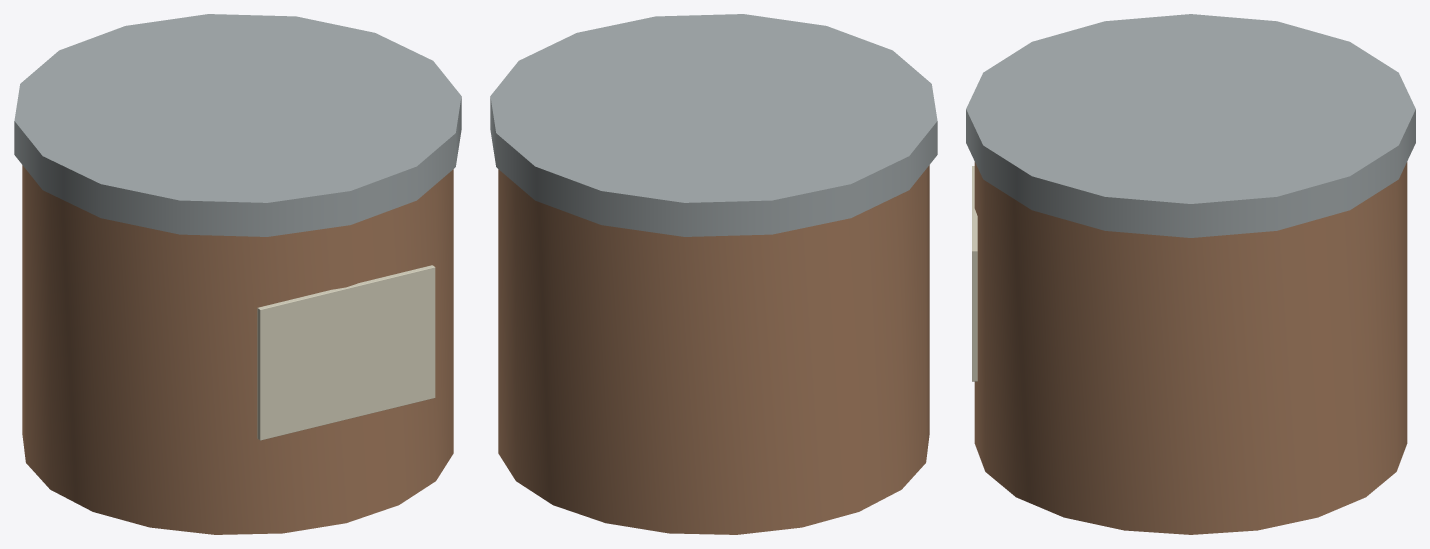
The model's file is survival-food-and-preservation-coffee-tin-d5a4f463__21769.glb.
The picture shows the model from 3 angles, left to right: view 1: azimuth 30°, elevation 25°; view 2: azimuth 150°, elevation 25°; view 3: azimuth 270°, elevation 25°; orthographic projection.
Visible parts, largest first — view 1: coffee-tin; view 2: coffee-tin; view 3: coffee-tin.
Boxes of the visible parts, x1,y1,x2,y2 form: coffee-tin: [14, 14, 461, 534]; coffee-tin: [490, 14, 937, 534]; coffee-tin: [966, 14, 1415, 534].
Bounding box in the file's own units: 0.156 × 0.128 × 0.156.
